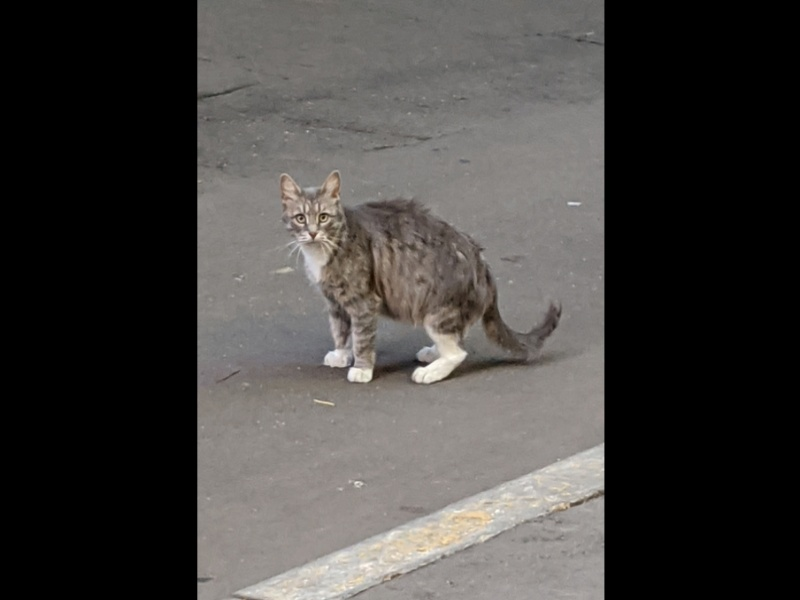cat: (277, 168, 565, 392)
